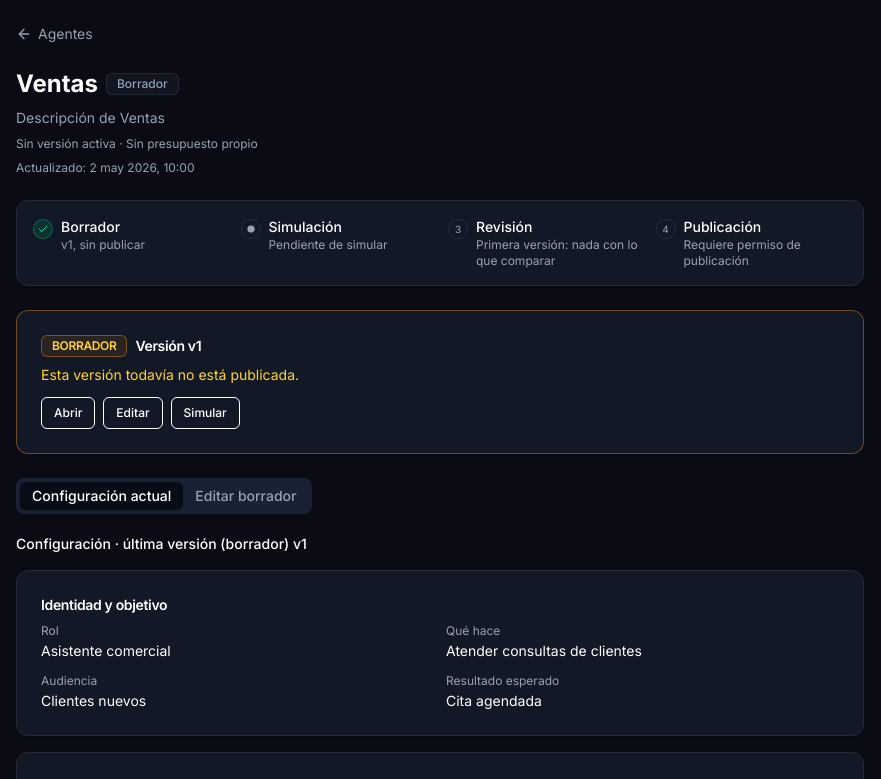
Selector de modelo › ofrece SOLO los modelos del catálogo (más «predeterminado» y, si lo hay, el valor ya guardado)
Press the mouse on the tab "Editar borrador" at {"x": 246, "y": 496}, box [183,482,308,510]
(page scrolled)
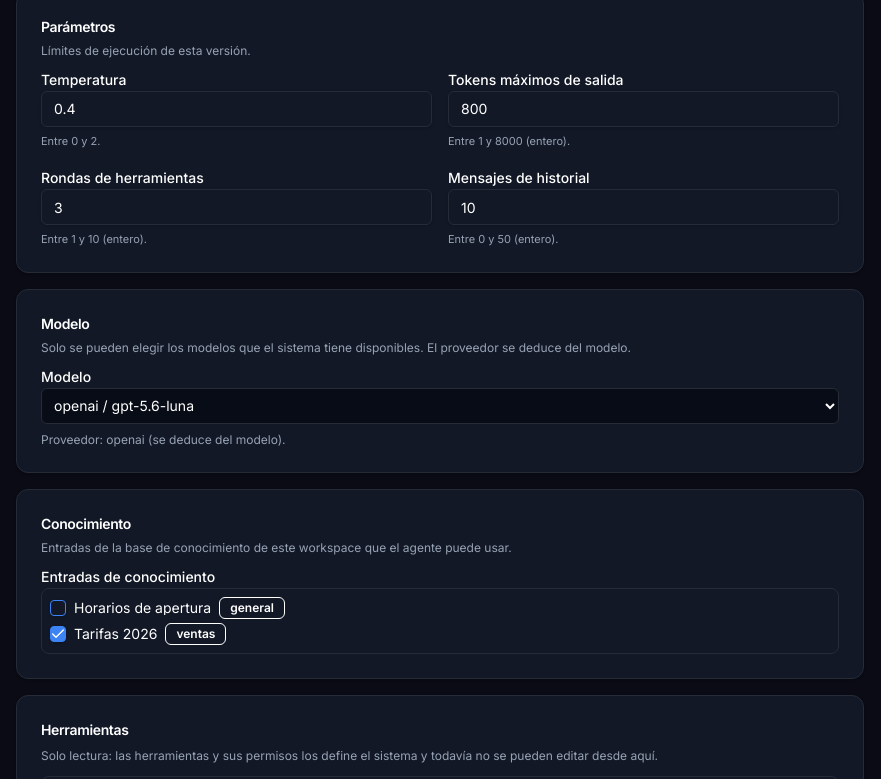
Expected: the dropdown with test id "model-select" shows "openai / gpt-5.6-luna", [41,388,839,424]
